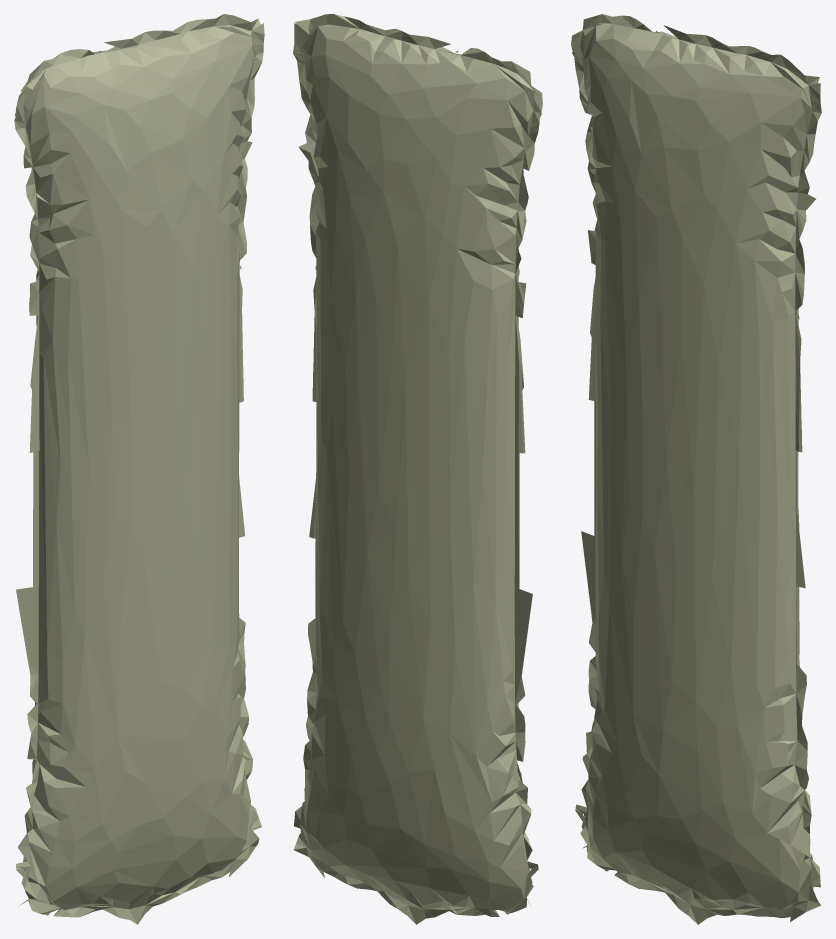
Rendered from tinker.obj.
The picture shows the model from 3 angles, left to right: view 1: azimuth 30°, elevation 25°; view 2: azimuth 150°, elevation 25°; view 3: azimuth 330°, elevation 25°; orthographic projection.
Parts seen in each view (by area): view 1: obj_0; view 2: obj_0; view 3: obj_0.
Boxes of the visible parts, x1=… form: obj_0: x1=14, y1=14, x2=264, y2=924; obj_0: x1=293, y1=14, x2=542, y2=924; obj_0: x1=571, y1=14, x2=821, y2=924.
Size of the model in its own units: 4.76 by 16.29 by 1.69.
